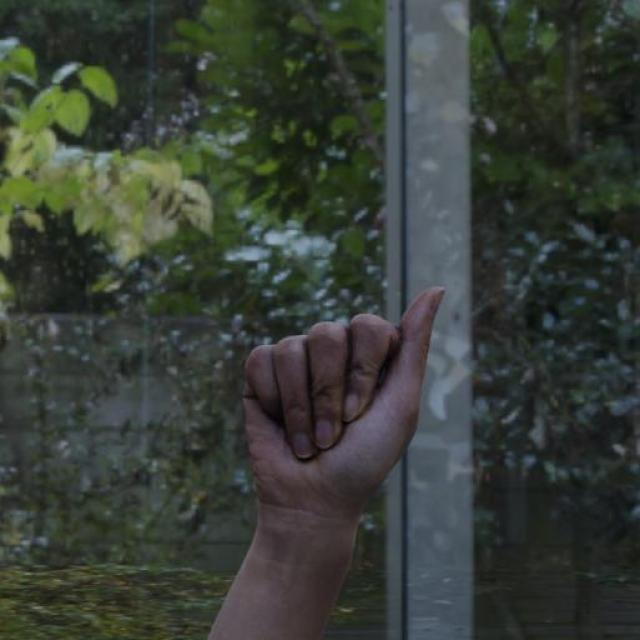A: (239, 283, 448, 522)
